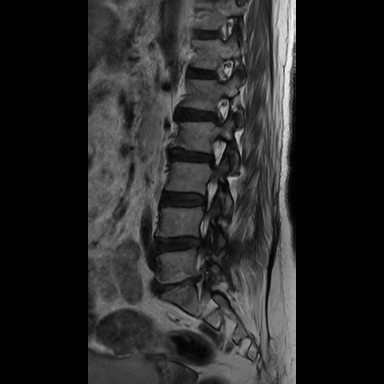LFS0: (203, 89, 242, 131), (200, 132, 234, 176)
